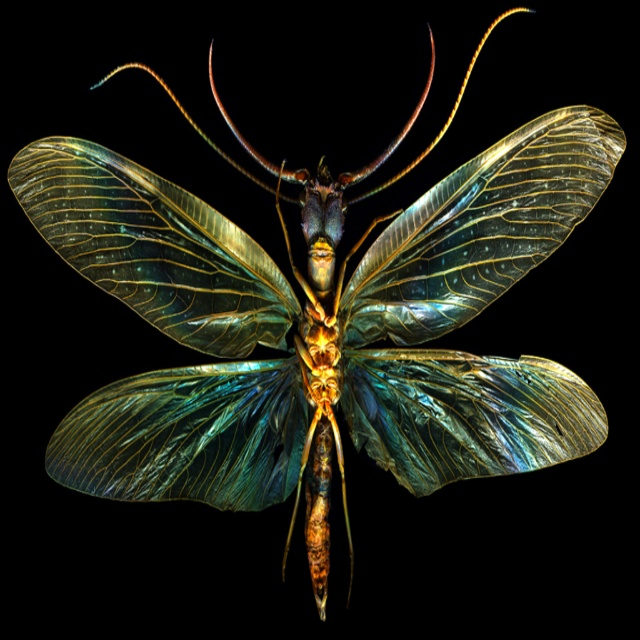Moths and butterflies: (7, 6, 626, 622)
